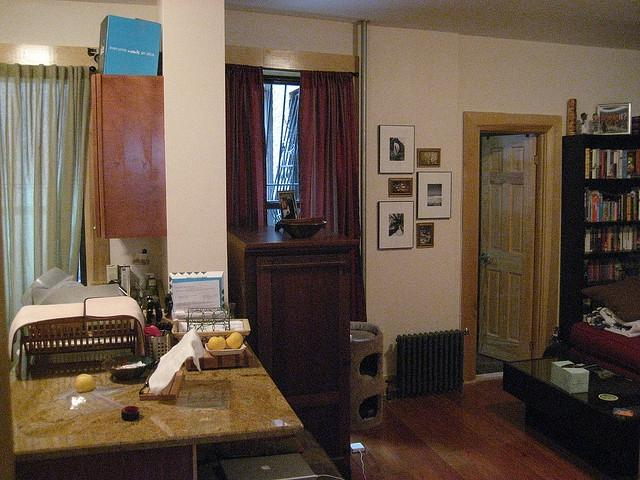apple: (74, 373, 95, 393), (226, 332, 243, 349), (208, 336, 226, 350)
